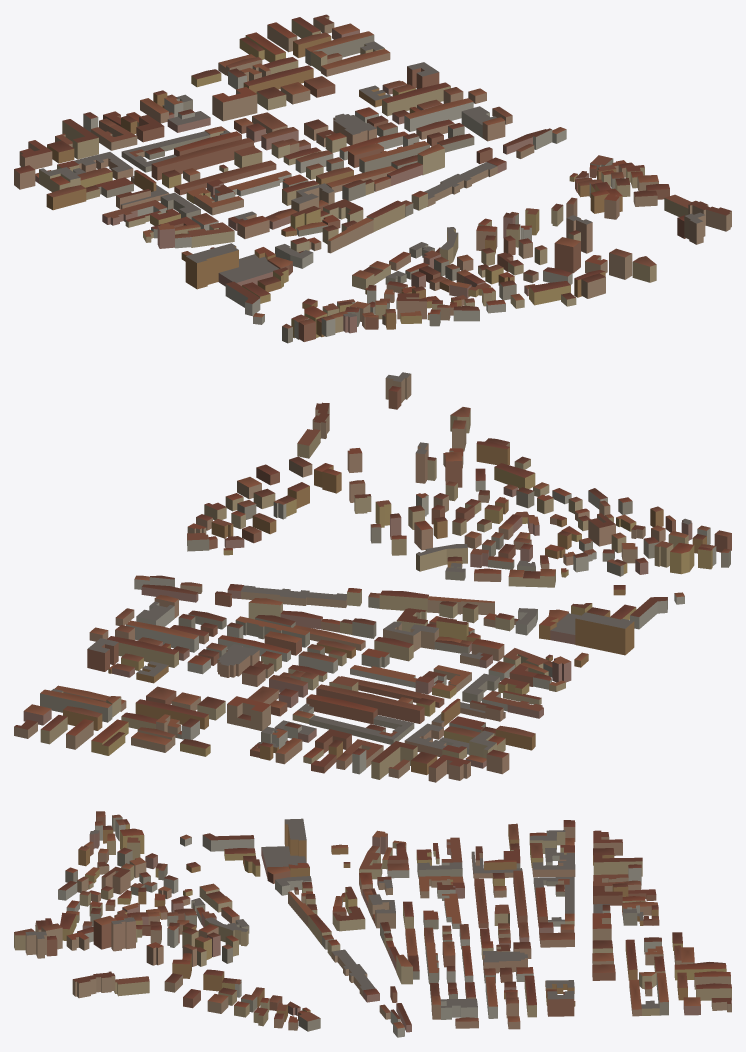
Rendered from SM_Fondale_Citta_Colle_05.fbx.
The picture shows the model from 3 angles, top to bottom: view 1: azimuth 30°, elevation 25°; view 2: azimuth 150°, elevation 25°; view 3: azimuth 270°, elevation 25°; orthographic projection. The views are drawn at different scales.
Visible parts, largest first — view 1: SM_Fondale_Citta_Colle_05; view 2: SM_Fondale_Citta_Colle_05; view 3: SM_Fondale_Citta_Colle_05.
Boxes of the visible parts, <box> form: SM_Fondale_Citta_Colle_05: <box>14,14,731,343</box>; SM_Fondale_Citta_Colle_05: <box>14,372,731,782</box>; SM_Fondale_Citta_Colle_05: <box>14,811,731,1037</box>.
Bounding box in the file's own units: 55696 × 80739 × 9668.
